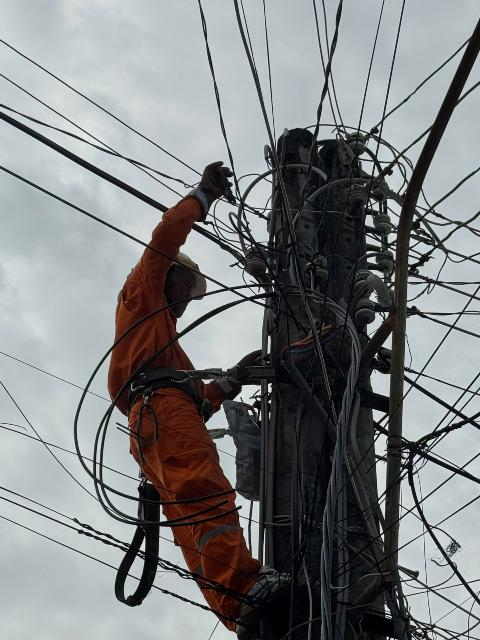gloves: (175, 158, 243, 225), (223, 331, 281, 386)
harness: (99, 350, 266, 421), (221, 545, 230, 548)
helmet: (156, 243, 216, 302)
shoes: (226, 551, 324, 622)
